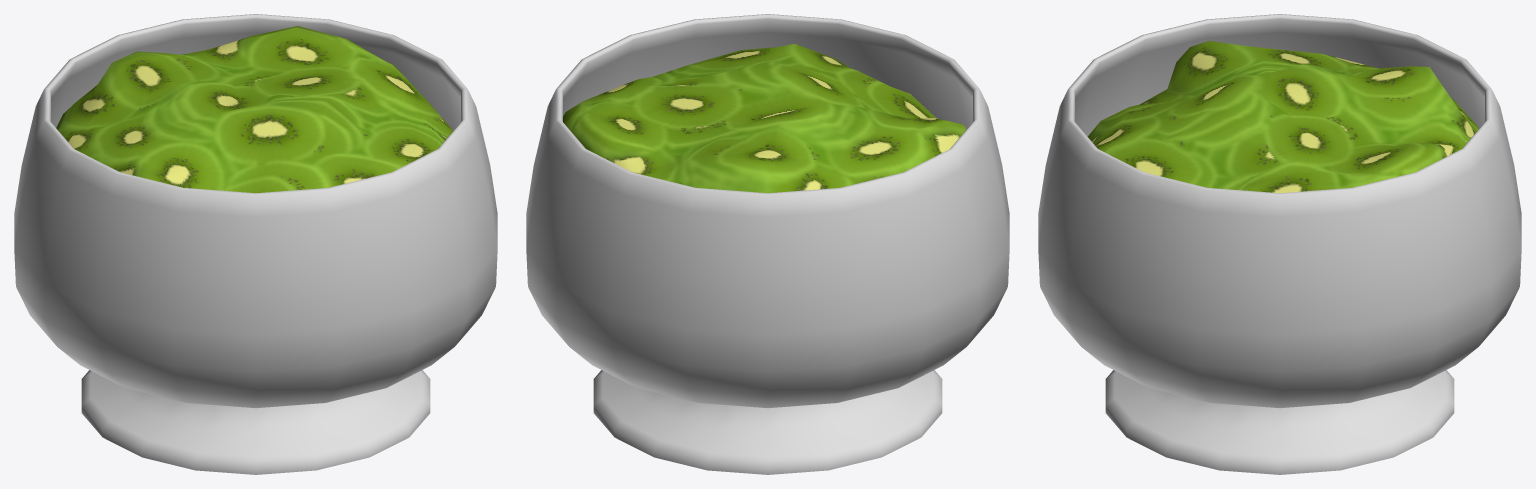
Rendered from BuffetFruits02_2.FBX.
3 renders of one model, left to right at view 1: azimuth 30°, elevation 25°; view 2: azimuth 150°, elevation 25°; view 3: azimuth 270°, elevation 25°, orthographic.
Visible parts, largest first — view 1: BuffetFruits02_2; view 2: BuffetFruits02_2; view 3: BuffetFruits02_2.
Part boxes in pixels (left/top/right/bottom): BuffetFruits02_2: left=14, top=14, right=497, bottom=474; BuffetFruits02_2: left=526, top=14, right=1009, bottom=474; BuffetFruits02_2: left=1038, top=14, right=1521, bottom=474.
Size of what is drawn, in the model's own units: 0.3089 by 0.2134 by 0.3042.
